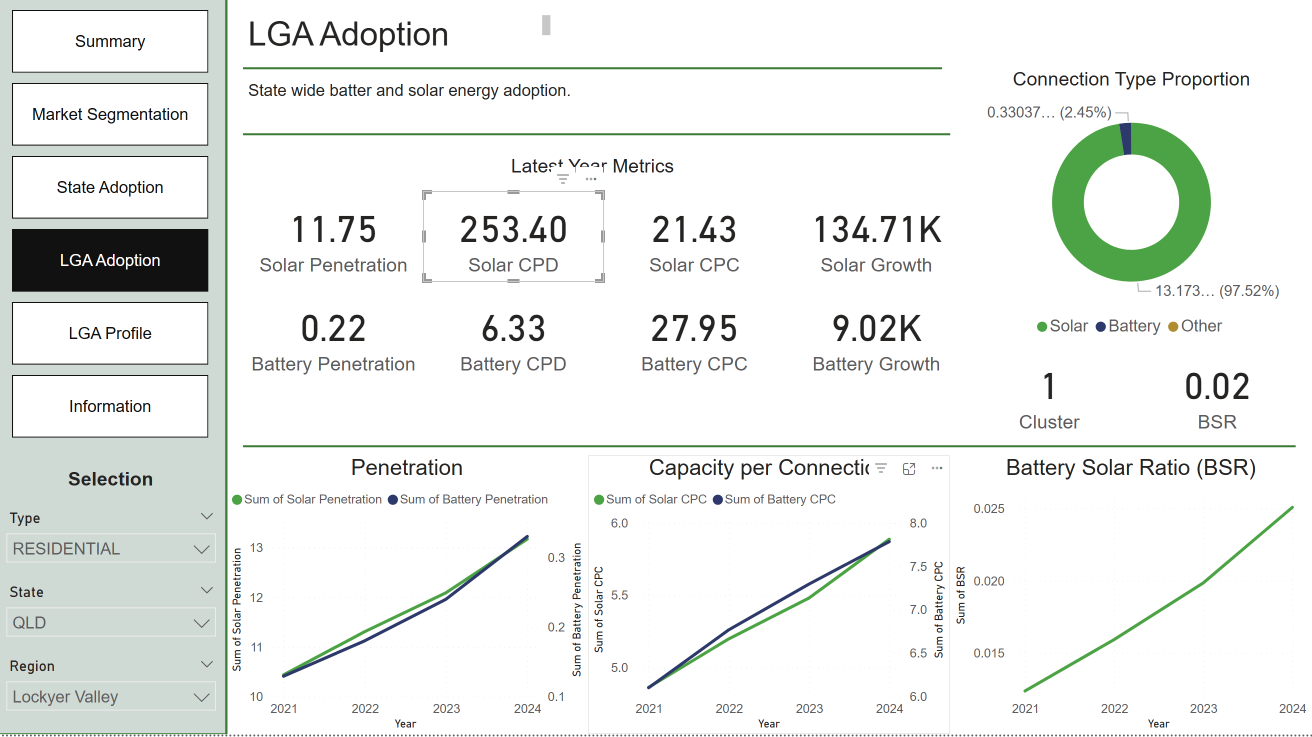

The page's visual inventory and layout, read from the dashboard file:
{"tool":"powerbi","page":{"name":"LGA Adoption","canvas":[1280,720],"ordinal":3},"visuals":[{"type":"shape","box":[0,0,224,720],"z":0},{"type":"slicer","fields":{"Values":["Dim_Region.Region"]},"box":[0,640,224,64],"z":1000},{"type":"slicer","fields":{"Values":["Dim_Region.State"]},"box":[0,568,224,72],"z":2000},{"type":"lineChart","title":"Penetration","fields":{"Category":["Metrics.Year"],"Y":["Sum(Metrics.PenSolar)"],"Y2":["Sum(Metrics.Battery Penetration)"]},"box":[224,448,352,272],"z":3000},{"type":"lineChart","title":"Battery Solar Ratio (BSR)","fields":{"Category":["Metrics.Year"],"Y":["Sum(Metrics.BSR)"]},"box":[928,448,352,272],"z":4000},{"type":"lineChart","title":"Capacity per Connection","fields":{"Category":["Metrics.Year"],"Y":["Sum(Metrics.Solar CPC)"],"Y2":["Sum(Metrics.Battery CPC)"]},"box":[576,448,352,272],"z":5000},{"type":"shape","box":[240,432,1024,16],"z":6000},{"type":"textbox","box":[240,16,304,48],"z":7000},{"type":"slicer","fields":{"Values":["Metrics.Type"]},"box":[0,496,224,72],"z":8000},{"type":"pageNavigator","box":[16,16,192,416],"z":9000},{"type":"shape","box":[208,0,32,720],"z":10000},{"type":"textbox","box":[16,456,192,40],"z":11000},{"type":"donutChart","title":"Connection Type Proportion","fields":{"Y":["Sum(Metrics.PenSolar)","Sum(Metrics.PenBattery)","Sum(Metrics.PenOther)"]},"box":[944,72,320,272],"z":12000},{"type":"shape","box":[240,64,680,16],"z":13000},{"type":"card","fields":{"Values":["Avg(Metrics.PenSolar)"]},"box":[239.8,192,176,88],"z":14000},{"type":"card","fields":{"Values":["Sum(Metrics.Solar CPD)"]},"box":[415.8,192,176,88],"z":15000},{"type":"card","fields":{"Values":["Sum(Metrics.Solar CPC)"]},"box":[591.8,192,176,88],"z":16000},{"type":"card","fields":{"Values":["Avg(Metrics.Battery Penetration)"]},"box":[239.8,288,176,88],"z":17000},{"type":"card","fields":{"Values":["Sum(Metrics.Battery CPD)"]},"box":[415.8,288,176,88],"z":18000},{"type":"card","fields":{"Values":["Avg(Metrics.BSR)"]},"box":[1104,344,168,88],"z":19000},{"type":"card","fields":{"Values":["Min(Metrics.Cluster)"]},"box":[944,344,160,88],"z":20000},{"type":"card","fields":{"Values":["Sum(Metrics.Battery CPC)"]},"box":[591.8,288,176,88],"z":21000},{"type":"shape","box":[240,128,688,16],"z":22000},{"type":"textbox","box":[240,152,680,32],"z":23000},{"type":"textbox","box":[240,80,680,40],"z":24000},{"type":"card","fields":{"Values":["Avg(Metrics.Solar Growth)"]},"box":[768,192,176,88],"z":25000},{"type":"card","fields":{"Values":["Avg(Metrics.Battery Growth)"]},"box":[768,288,176,88],"z":26000}]}

Visuals, with their boxes on the page's 1280x720 design canvas (x1, y1, x2, y2). These are canvas units, not pixel positions in the 1312x737 screenshot, which may show the page scaled, cropped or inside an application window:
shape: locate(0, 0, 224, 720)
slicer - Dim_Region.Region: locate(0, 640, 224, 704)
slicer - Dim_Region.State: locate(0, 568, 224, 640)
"Penetration" lineChart: locate(224, 448, 576, 720)
"Battery Solar Ratio (BSR)" lineChart: locate(928, 448, 1280, 720)
"Capacity per Connection" lineChart: locate(576, 448, 928, 720)
shape: locate(240, 432, 1264, 448)
textbox: locate(240, 16, 544, 64)
slicer - Metrics.Type: locate(0, 496, 224, 568)
pageNavigator: locate(16, 16, 208, 432)
shape: locate(208, 0, 240, 720)
textbox: locate(16, 456, 208, 496)
"Connection Type Proportion" donutChart: locate(944, 72, 1264, 344)
shape: locate(240, 64, 920, 80)
card - Avg(Metrics.PenSolar): locate(240, 192, 416, 280)
card - Sum(Metrics.Solar CPD): locate(416, 192, 592, 280)
card - Sum(Metrics.Solar CPC): locate(592, 192, 768, 280)
card - Avg(Metrics.Battery Penetration): locate(240, 288, 416, 376)
card - Sum(Metrics.Battery CPD): locate(416, 288, 592, 376)
card - Avg(Metrics.BSR): locate(1104, 344, 1272, 432)
card - Min(Metrics.Cluster): locate(944, 344, 1104, 432)
card - Sum(Metrics.Battery CPC): locate(592, 288, 768, 376)
shape: locate(240, 128, 928, 144)
textbox: locate(240, 152, 920, 184)
textbox: locate(240, 80, 920, 120)
card - Avg(Metrics.Solar Growth): locate(768, 192, 944, 280)
card - Avg(Metrics.Battery Growth): locate(768, 288, 944, 376)
